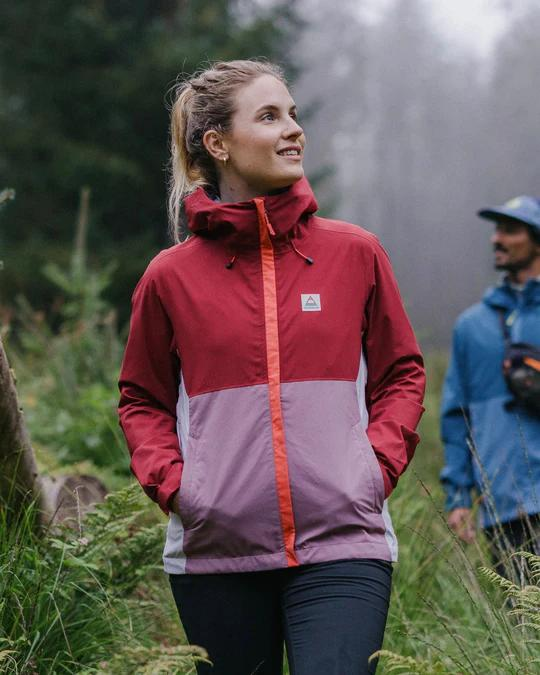coat: (116, 183, 429, 573), (439, 275, 540, 522)
trousers: (163, 556, 395, 675), (479, 512, 540, 592)
